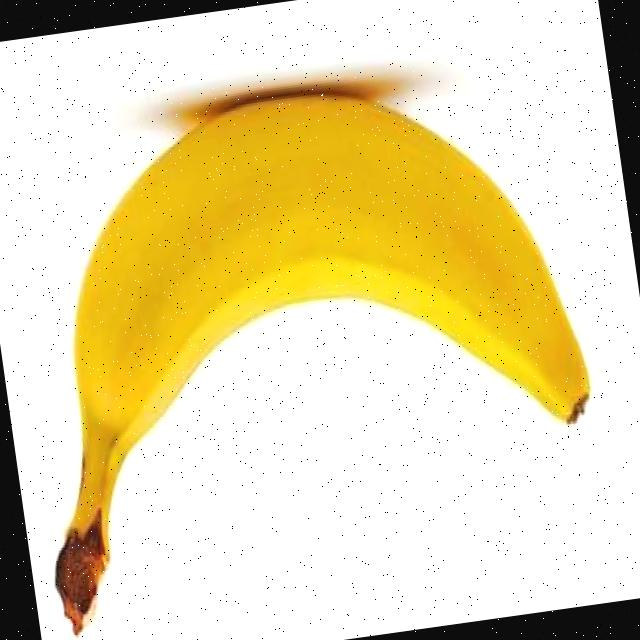Ripe: (30, 49, 608, 566)
